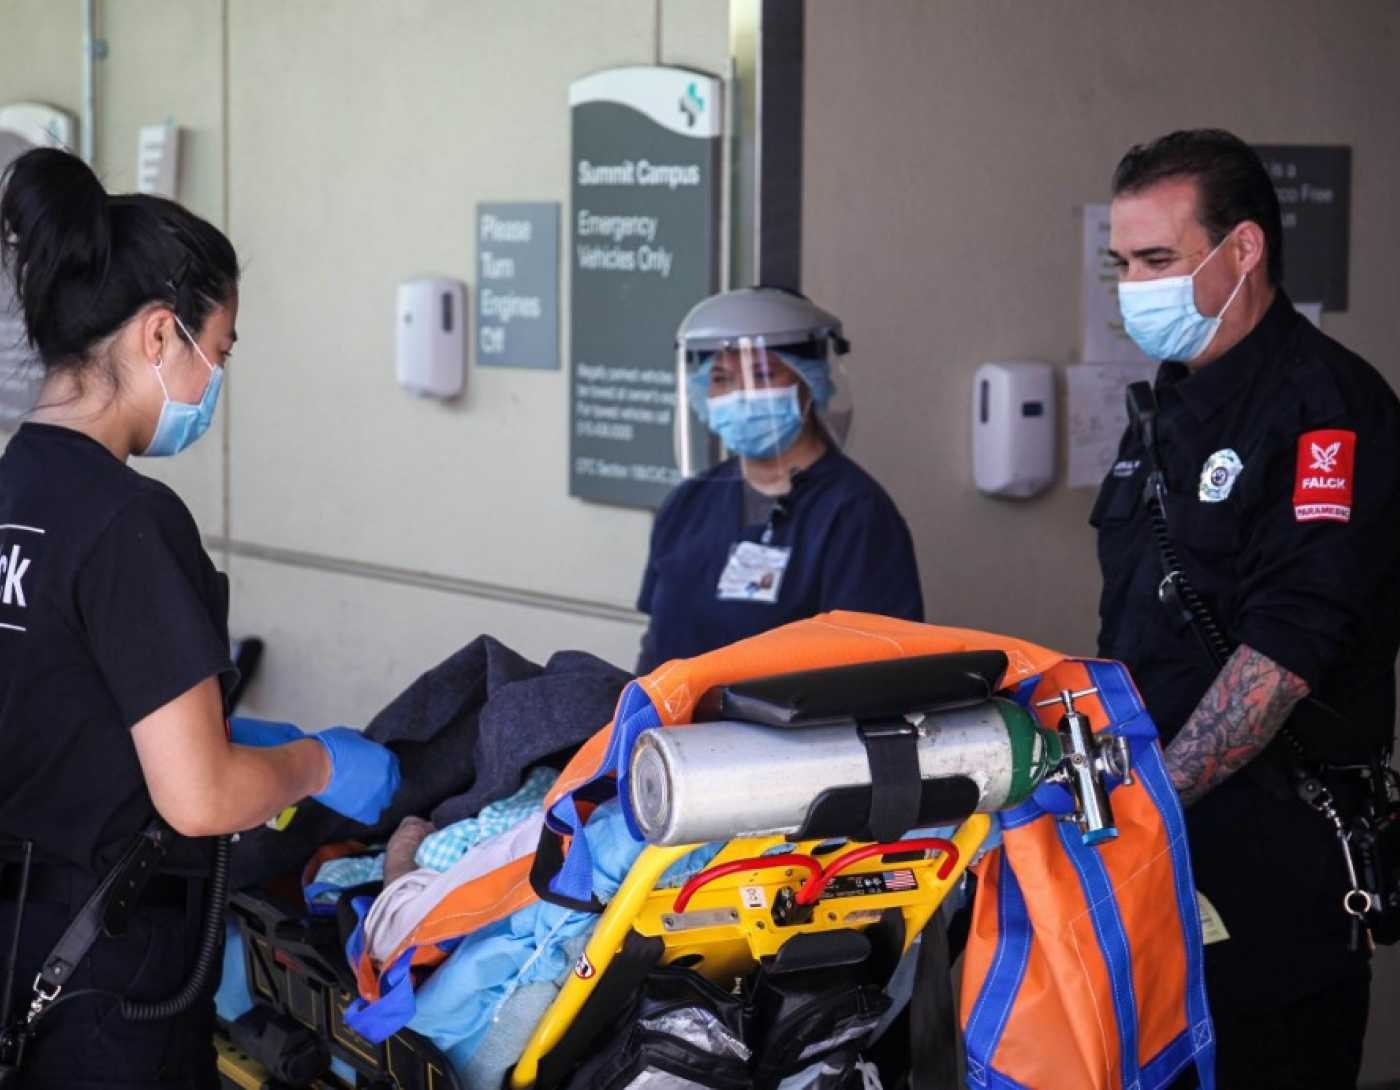Face_Shield: (669, 284, 858, 487)
Gloves: (305, 720, 402, 836), (223, 711, 313, 749)
with_mask: (1108, 236, 1222, 366), (143, 328, 238, 461), (705, 364, 804, 463)
